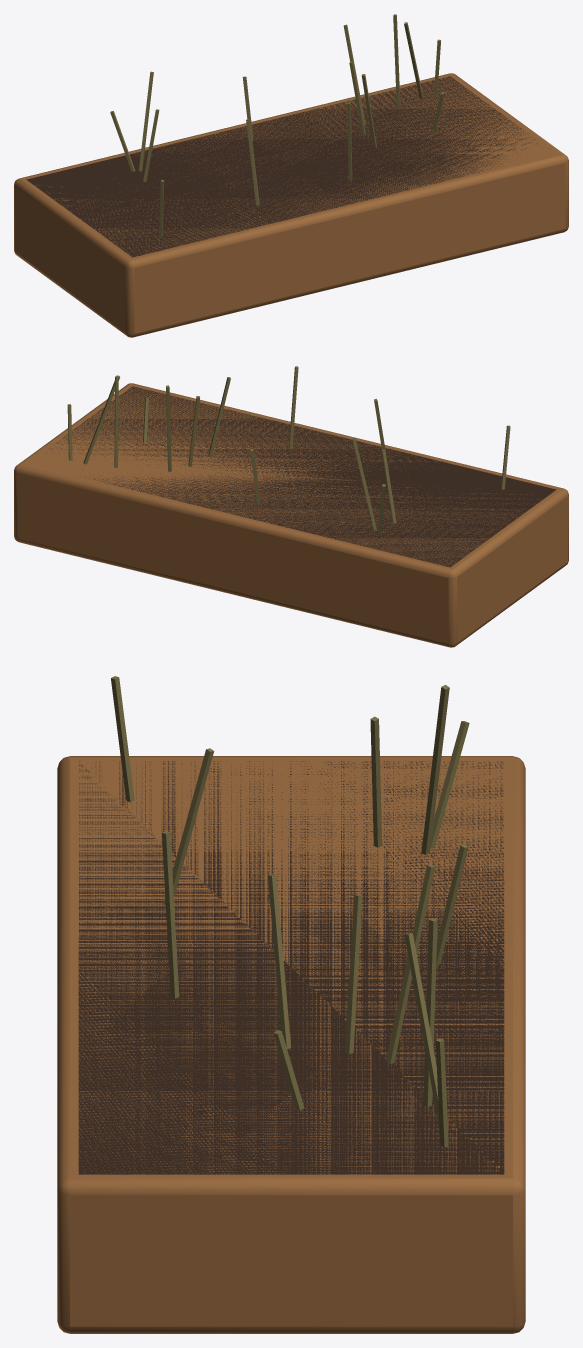
File: raised_bed_weeds.fbx
3 renders of one model, top to bottom at view 1: azimuth 30°, elevation 25°; view 2: azimuth 150°, elevation 25°; view 3: azimuth 270°, elevation 25°, orthographic. The views are drawn at different scales.
Parts seen in each view (by area): view 1: raised_bed_weeds; view 2: raised_bed_weeds; view 3: raised_bed_weeds.
Boxes of the visible parts, x1,y1,x2,y2 form: raised_bed_weeds: (14,14,568,337); raised_bed_weeds: (14,366,568,647); raised_bed_weeds: (57,676,525,1333).
Size of the model in its own units: 2.4 by 0.8905 by 1.1.
